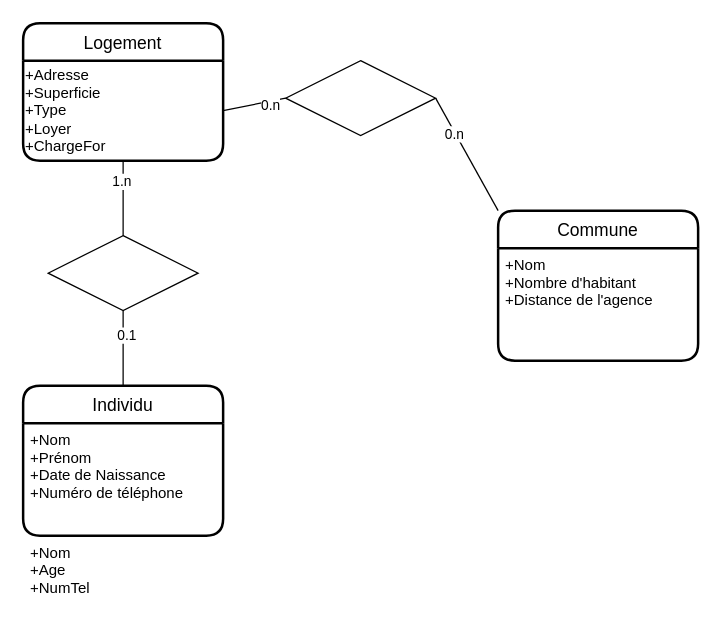
This 720x618 diagram has some shape labels left out. The shapes that lost their labels are listed below. From the top down, each one's centre as x and y in pixels, then its label:
At (360,97): "Situer".
At (122,272): "Occuper".
